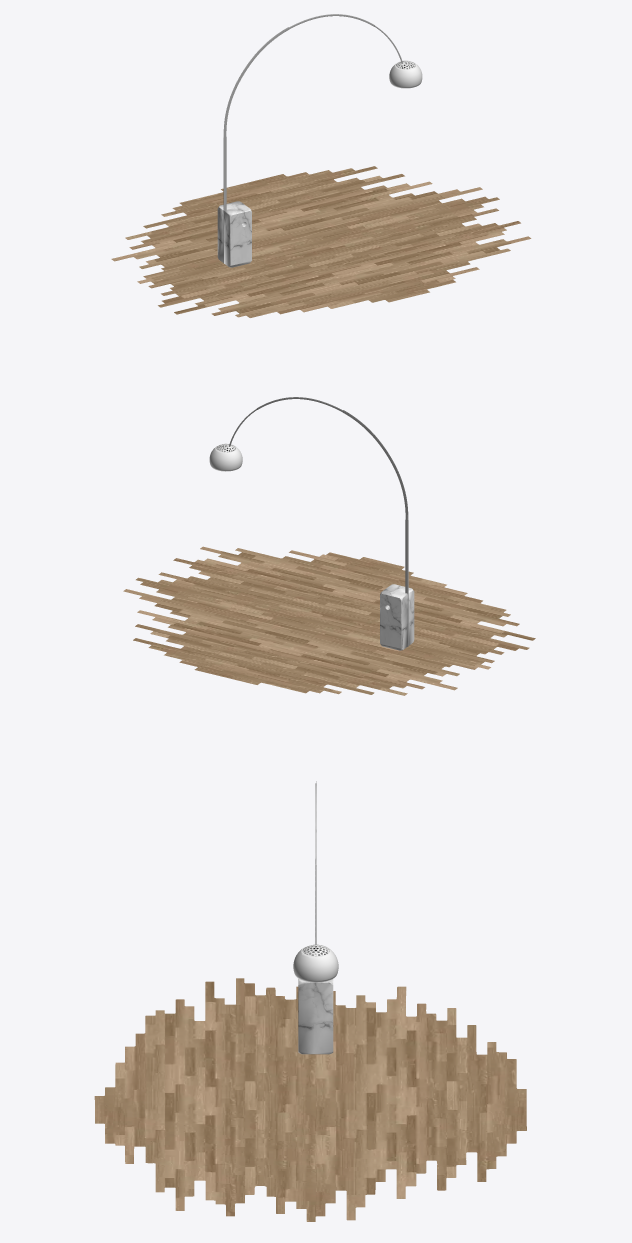
The model's file is lampada-arco.glb.
3 views of the same model, one above another, from view 1: azimuth 30°, elevation 25°; view 2: azimuth 150°, elevation 25°; view 3: azimuth 270°, elevation 25° (orthographic). The views are drawn at different scales.
Parts seen in each view (by area): view 1: Plane_Fondo_0, marble_low_Arco_0, external_head_low_Arco_0; view 2: Plane_Fondo_0, marble_low_Arco_0, external_head_low_Arco_0; view 3: Plane_Fondo_0, marble_low_Arco_0, external_head_low_Arco_0.
Boxes of the visible parts, bbox=[...] form: Plane_Fondo_0: bbox=[111, 166, 531, 317]; marble_low_Arco_0: bbox=[217, 201, 251, 267]; external_head_low_Arco_0: bbox=[389, 61, 422, 88]; Plane_Fondo_0: bbox=[123, 546, 535, 695]; marble_low_Arco_0: bbox=[380, 584, 414, 650]; external_head_low_Arco_0: bbox=[209, 443, 242, 471]; Plane_Fondo_0: bbox=[94, 978, 526, 1221]; marble_low_Arco_0: bbox=[298, 979, 333, 1054]; external_head_low_Arco_0: bbox=[293, 945, 338, 982].
Size of the model in its own units: 4.14 by 2.32 by 4.14.
Materials: 3 (2 with a texture image).
